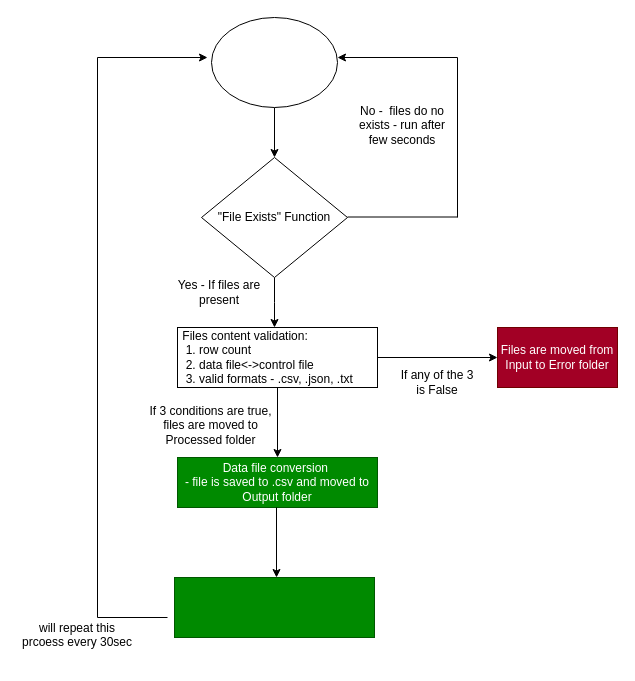
This 635x681 diagram has some shape labels left out. The centre of each missing label's shape, as x and y in pixels:
Control file conversion - file is saved to .csv and moved to Output folder: the point at 274,607
Start of "MAIN" function: the point at 274,62
